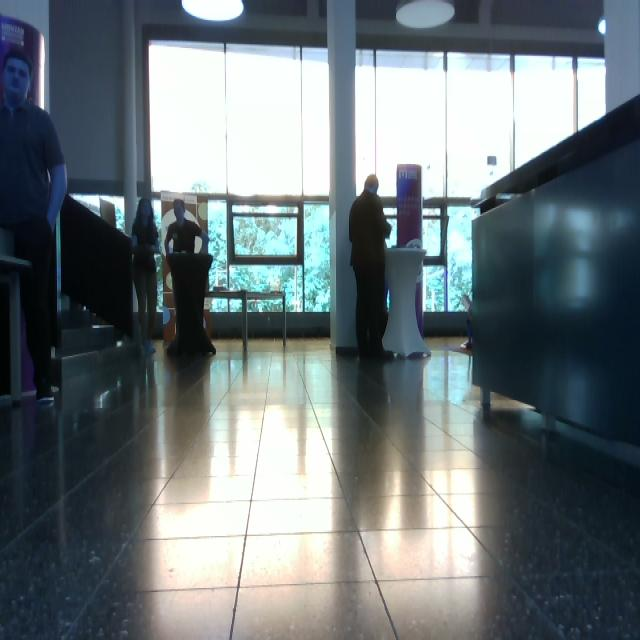light bulb: (396, 1, 456, 30), (182, 1, 245, 22), (598, 19, 606, 35)
person: (1, 47, 68, 403), (349, 174, 395, 361), (164, 198, 216, 357), (131, 198, 162, 357)
pillar: (327, 1, 358, 353), (396, 164, 425, 338)
table: (381, 244, 434, 365)
tiled floor: (2, 333, 639, 638)
window: (148, 38, 331, 316)
